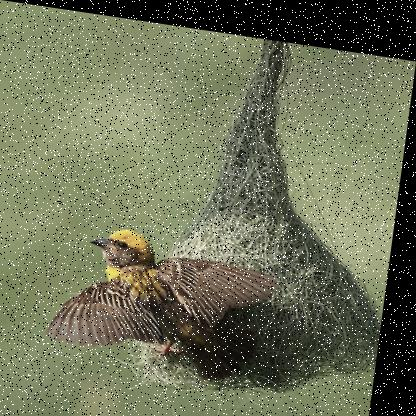Burung: (51, 216, 286, 380)
